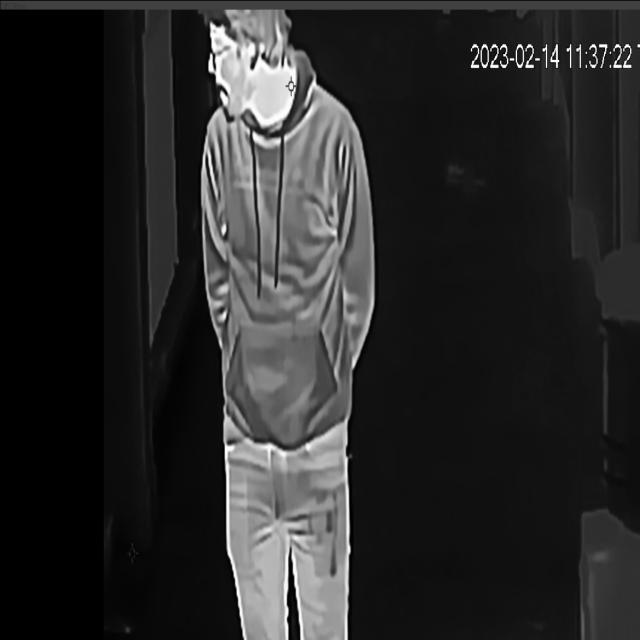Weapon: (308, 483, 349, 587)
